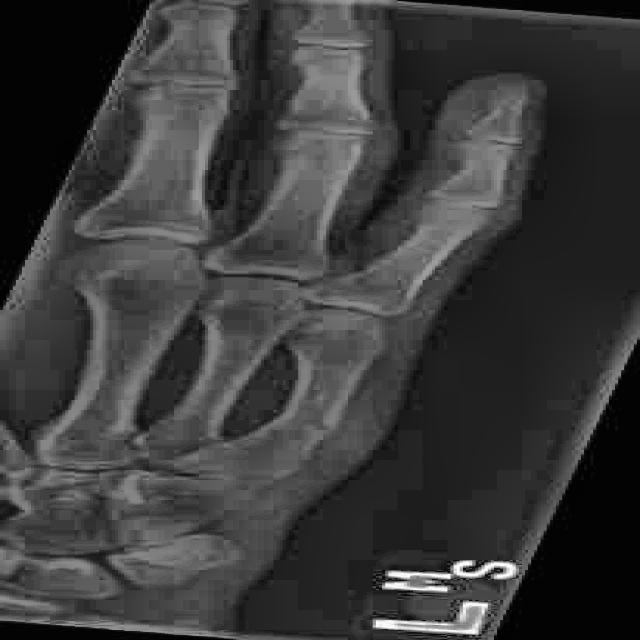fingers positive: (224, 370, 363, 477)
